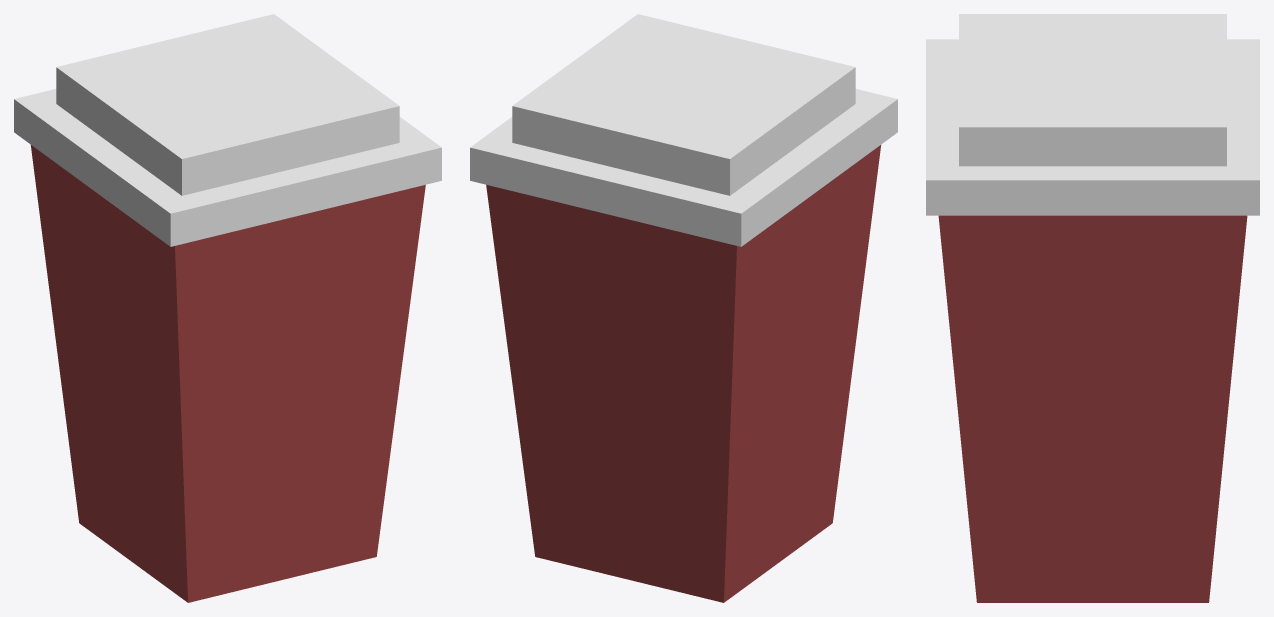
Rendered from FastCoffeeCupRed.fbx.
3 views of the same model, side by side, from view 1: azimuth 30°, elevation 25°; view 2: azimuth 150°, elevation 25°; view 3: azimuth 270°, elevation 25° (orthographic). The views are drawn at different scales.
Visible parts, largest first — view 1: FastCoffeeCupRed; view 2: FastCoffeeCupRed; view 3: FastCoffeeCupRed.
Boxes of the visible parts, bbox=[...] form: FastCoffeeCupRed: bbox=[14, 14, 441, 602]; FastCoffeeCupRed: bbox=[470, 14, 897, 602]; FastCoffeeCupRed: bbox=[926, 14, 1259, 602].
Bounding box in the file's own units: 0.1547 × 0.2471 × 0.1547.
